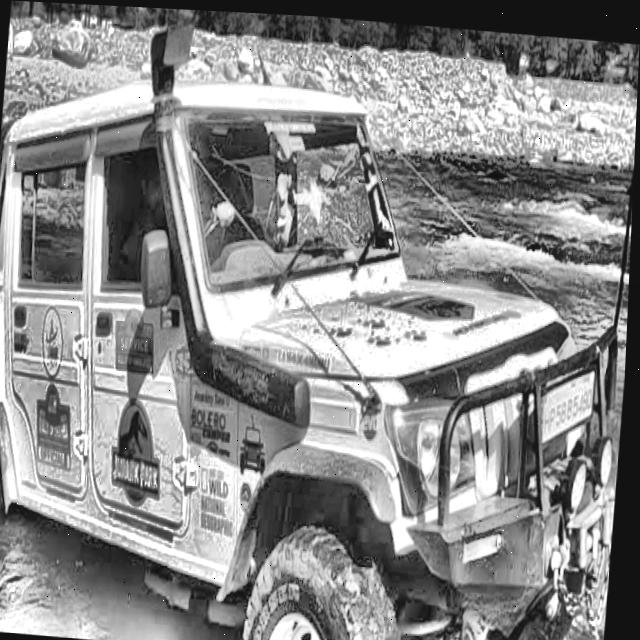light_vehicle: (0, 1, 640, 640)
